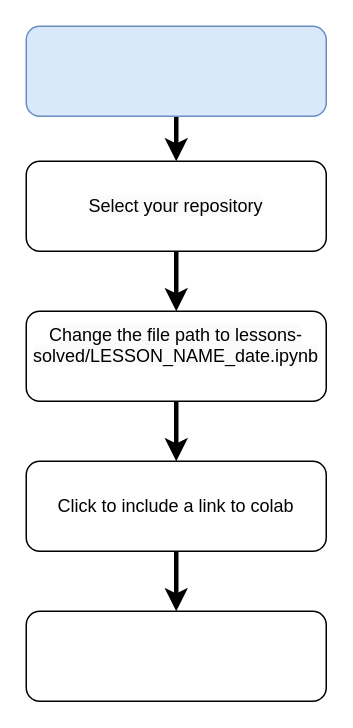
The diagram is 353 pixels wide and 728 high, and some of its shapes have lost their labels. The box of each missing label's shape, as (x1, y1, x2, y2) in pixels:
Click Save (or use ctrl/cmd s): (25, 25, 326, 116)
Select Save: (25, 610, 326, 701)
